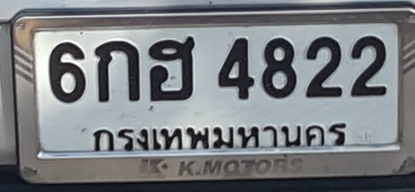num6: (48, 39, 87, 105)
txt01: (92, 39, 142, 104)
txt39: (145, 34, 196, 103)
